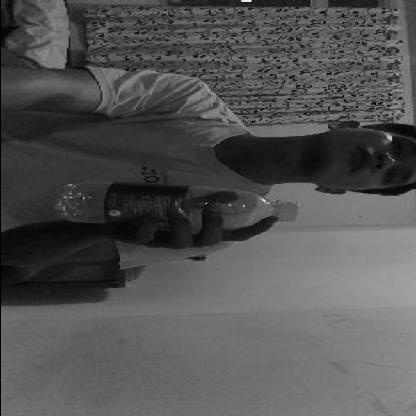plastic_bottles: (57, 182, 302, 226)
